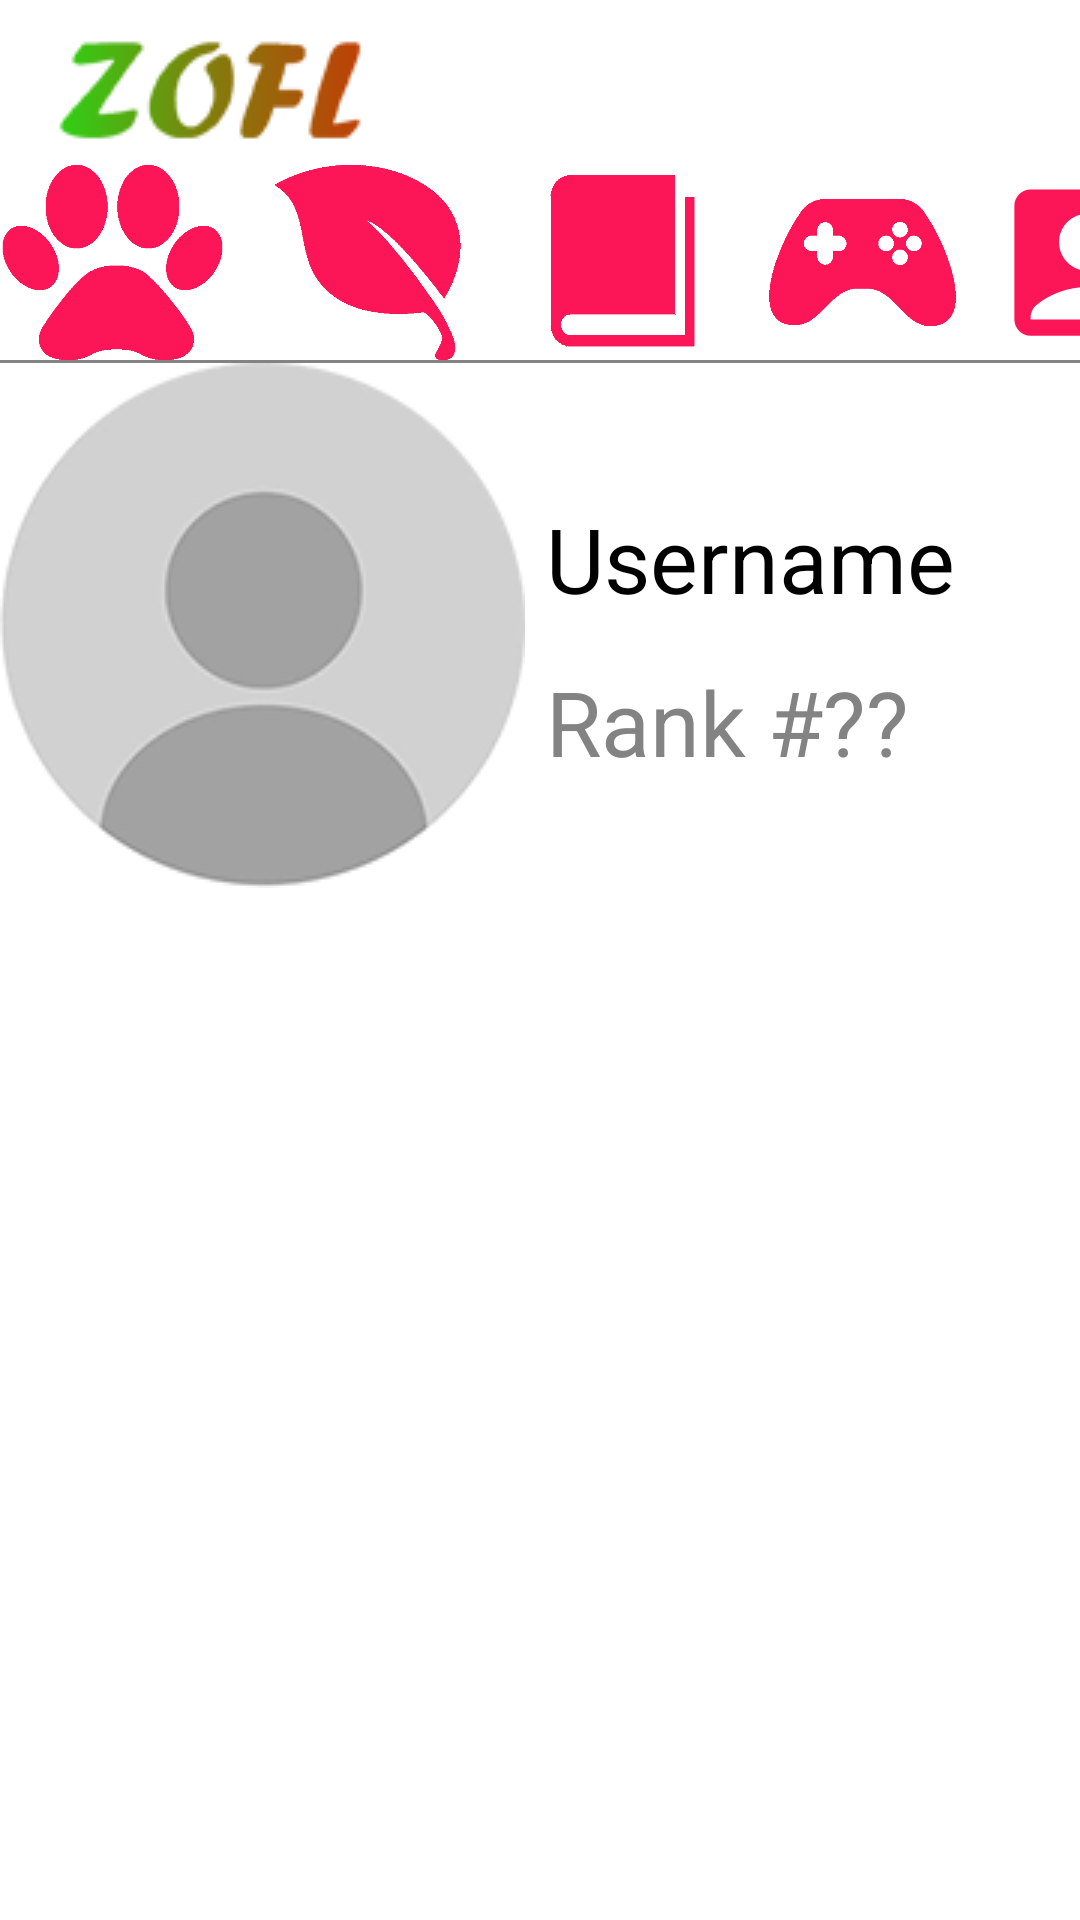

Screen size 1080x1920. Icon name, then its center in pixels as [x,y]:
bookred: [622,261]
gamered: [862,262]
leafred: [368,262]
